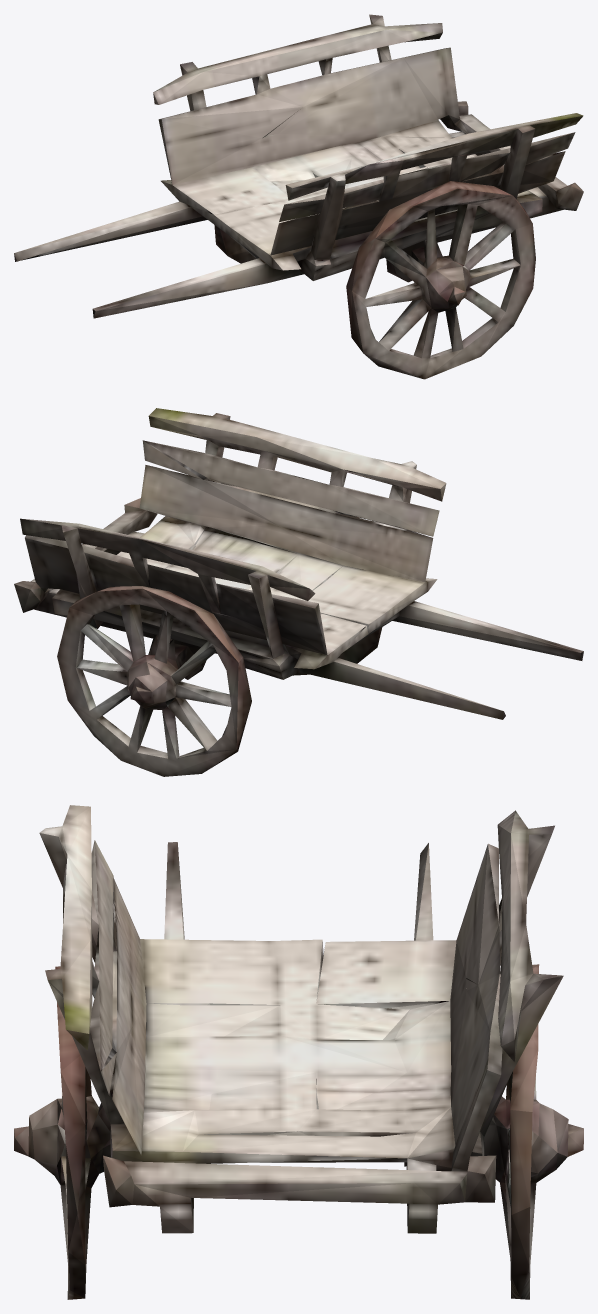
File: ga3_cart_lod1.glb
3 renders of one model, top to bottom at view 1: azimuth 30°, elevation 25°; view 2: azimuth 150°, elevation 25°; view 3: azimuth 270°, elevation 25°, orthographic. The views are drawn at different scales.
Parts seen in each view (by area): view 1: ga3_cart_lod1; view 2: ga3_cart_lod1; view 3: ga3_cart_lod1.
Part boxes in pixels (box(x1,y1,x2,y2)): ga3_cart_lod1: box(14, 14, 583, 379); ga3_cart_lod1: box(14, 408, 583, 776); ga3_cart_lod1: box(14, 805, 583, 1299).
Size of the model in its own units: 4.59 by 2.16 by 2.96.
1 material, 1 textured.
